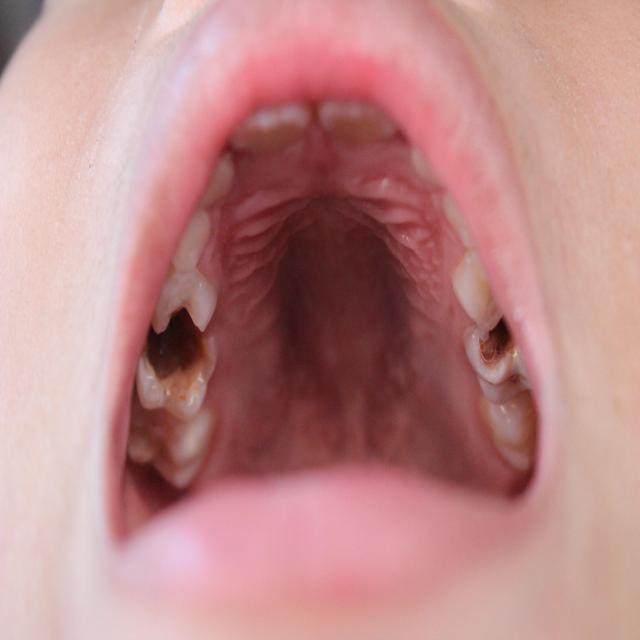caries: (141, 328, 218, 418), (124, 404, 208, 469), (466, 322, 534, 398)
